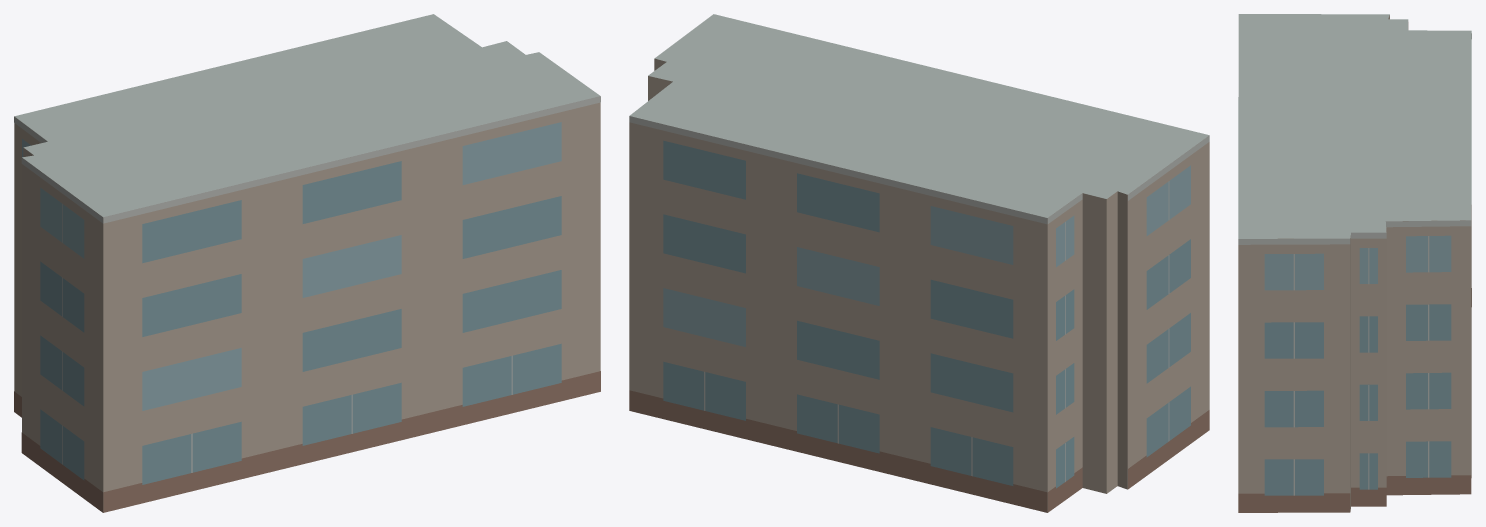
The model's file is survey-upis-32841622.glb.
3 views of the same model, side by side, from view 1: azimuth 30°, elevation 25°; view 2: azimuth 150°, elevation 25°; view 3: azimuth 270°, elevation 25° (orthographic). The views are drawn at different scales.
Parts seen in each view (by area): view 1: survey-upis-32841622.tmp; view 2: survey-upis-32841622.tmp; view 3: survey-upis-32841622.tmp.
Boxes of the visible parts, x1,y1,x2,y2 form: survey-upis-32841622.tmp: (14, 14, 600, 512); survey-upis-32841622.tmp: (629, 14, 1209, 512); survey-upis-32841622.tmp: (1238, 14, 1471, 512).
Size of the model in its own units: 19.91 by 11.3 by 8.74.
